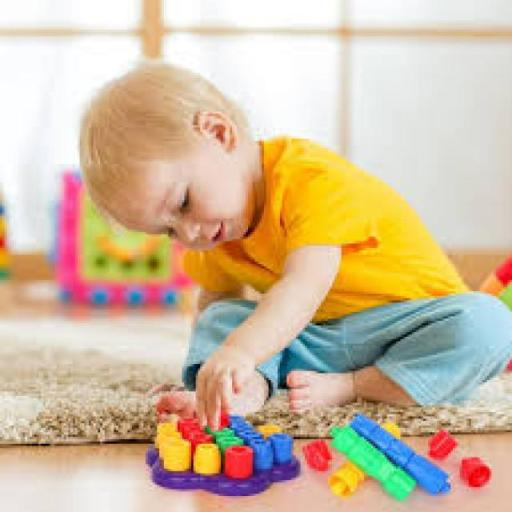baby: (80, 64, 511, 427)
